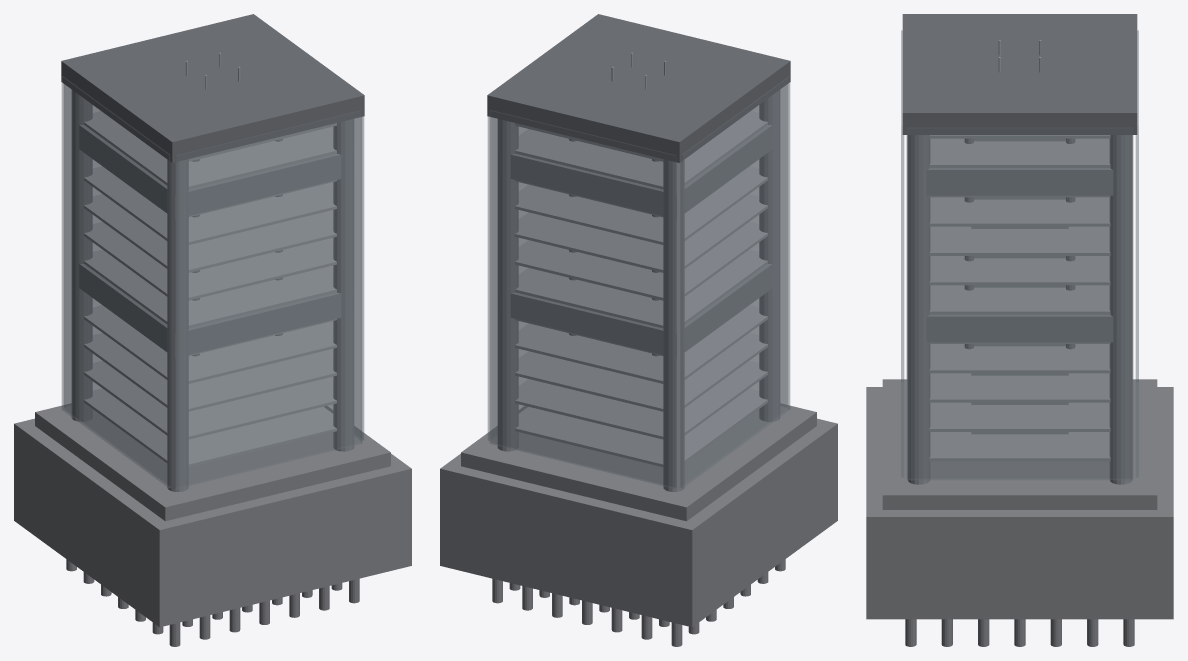
File: vecta_tower_exploded.glb
3 views of the same model, side by side, from view 1: azimuth 30°, elevation 25°; view 2: azimuth 150°, elevation 25°; view 3: azimuth 270°, elevation 25° (orthographic). The views are drawn at different scales.
Parts seen in each view (by area): view 1: Facade_Glass_Front, Slurry_Diaphragm_Wall, Facade_Glass_Left, Facade_Crown_Parapet, Radier_Monolithic_Slab, MegaColumn_0, Perimeter_Belt_4.0, Perimeter_Belt_2.0, MegaColumn_1, FloorSlab_7, FloorSlab_0, FloorSlab_1 (+9 smaller); view 2: Facade_Glass_Back, Slurry_Diaphragm_Wall, Facade_Glass_Left, Facade_Crown_Parapet, Radier_Monolithic_Slab, MegaColumn_3, Perimeter_Belt_4.0, Perimeter_Belt_2.0, MegaColumn_2, FloorSlab_7, FloorSlab_0, FloorSlab_1 (+9 smaller); view 3: Facade_Glass_Right, Slurry_Diaphragm_Wall, Facade_Crown_Parapet, Radier_Monolithic_Slab, MegaColumn_1, MegaColumn_2, Perimeter_Belt_2.0, Perimeter_Belt_4.0, FloorSlab_0, FloorSlab_2, FloorSlab_5, FloorSlab_8 (+11 smaller).
Boxes of the visible parts, x1,y1,x2,y2 form: Facade_Glass_Front: (175,110,361,488); Slurry_Diaphragm_Wall: (14,418,411,627); Facade_Glass_Left: (62,76,171,487); Facade_Crown_Parapet: (61,14,364,162); Radier_Monolithic_Slab: (35,403,390,521); MegaColumn_0: (167,159,188,491); Perimeter_Belt_4.0: (79,125,354,218); Perimeter_Belt_2.0: (79,264,354,357); MegaColumn_1: (333,119,354,451); FloorSlab_7: (84,194,336,272); FloorSlab_0: (84,388,336,466); FloorSlab_1: (84,360,336,439); Facade_Glass_Back: (490,110,676,488); Slurry_Diaphragm_Wall: (440,418,837,627); Facade_Glass_Left: (680,76,789,487); Facade_Crown_Parapet: (487,14,790,162); Radier_Monolithic_Slab: (461,403,816,521); MegaColumn_3: (663,159,684,491); Perimeter_Belt_4.0: (497,125,772,218); Perimeter_Belt_2.0: (497,264,772,357); MegaColumn_2: (497,119,518,451); FloorSlab_7: (515,194,767,272); FloorSlab_0: (515,388,767,466); FloorSlab_1: (515,360,767,439); Facade_Glass_Right: (907,128,1132,479); Slurry_Diaphragm_Wall: (866,387,1173,619); Facade_Crown_Parapet: (902,14,1137,134); Radier_Monolithic_Slab: (882,379,1157,509); MegaColumn_1: (907,135,930,484); MegaColumn_2: (1109,135,1132,484); Perimeter_Belt_2.0: (926,314,1113,342); Perimeter_Belt_4.0: (926,168,1113,195); FloorSlab_0: (929,432,1110,461); FloorSlab_2: (929,373,1110,402); FloorSlab_5: (929,285,1110,314); FloorSlab_8: (929,197,1110,226).
Bounding box in the file's own units: 3.8 × 7.5 × 3.8.
